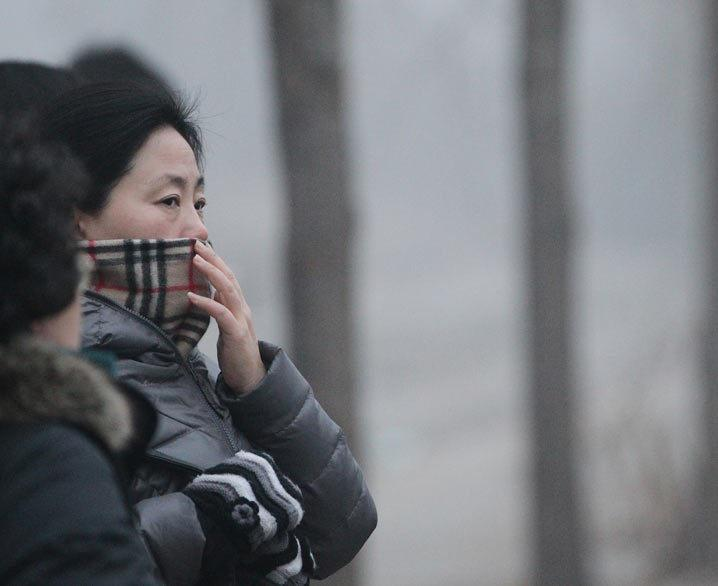WRONG: (122, 161, 214, 315)
